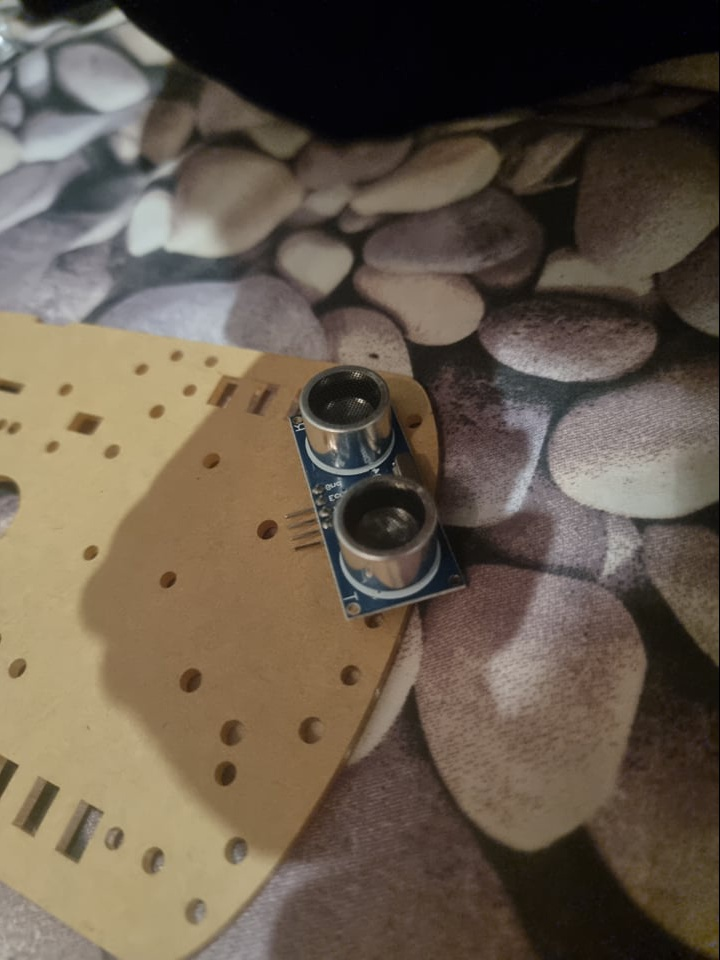SENSOR: (290, 360, 469, 622)
